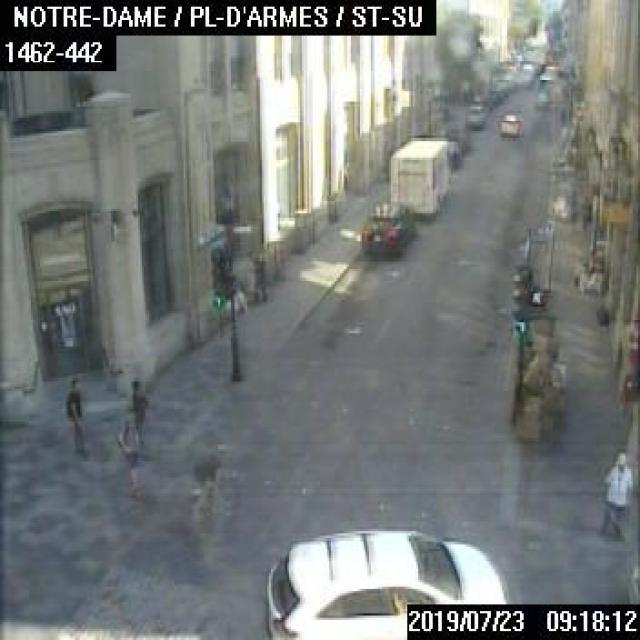cyclist: (186, 440, 234, 524)
pedestrian: (598, 449, 633, 535), (122, 368, 150, 446), (118, 418, 146, 496), (64, 378, 84, 447), (250, 250, 264, 303)
vehicle: (262, 526, 507, 638), (387, 136, 455, 217), (356, 200, 411, 258), (493, 106, 522, 138), (464, 101, 484, 128), (446, 139, 458, 167)
